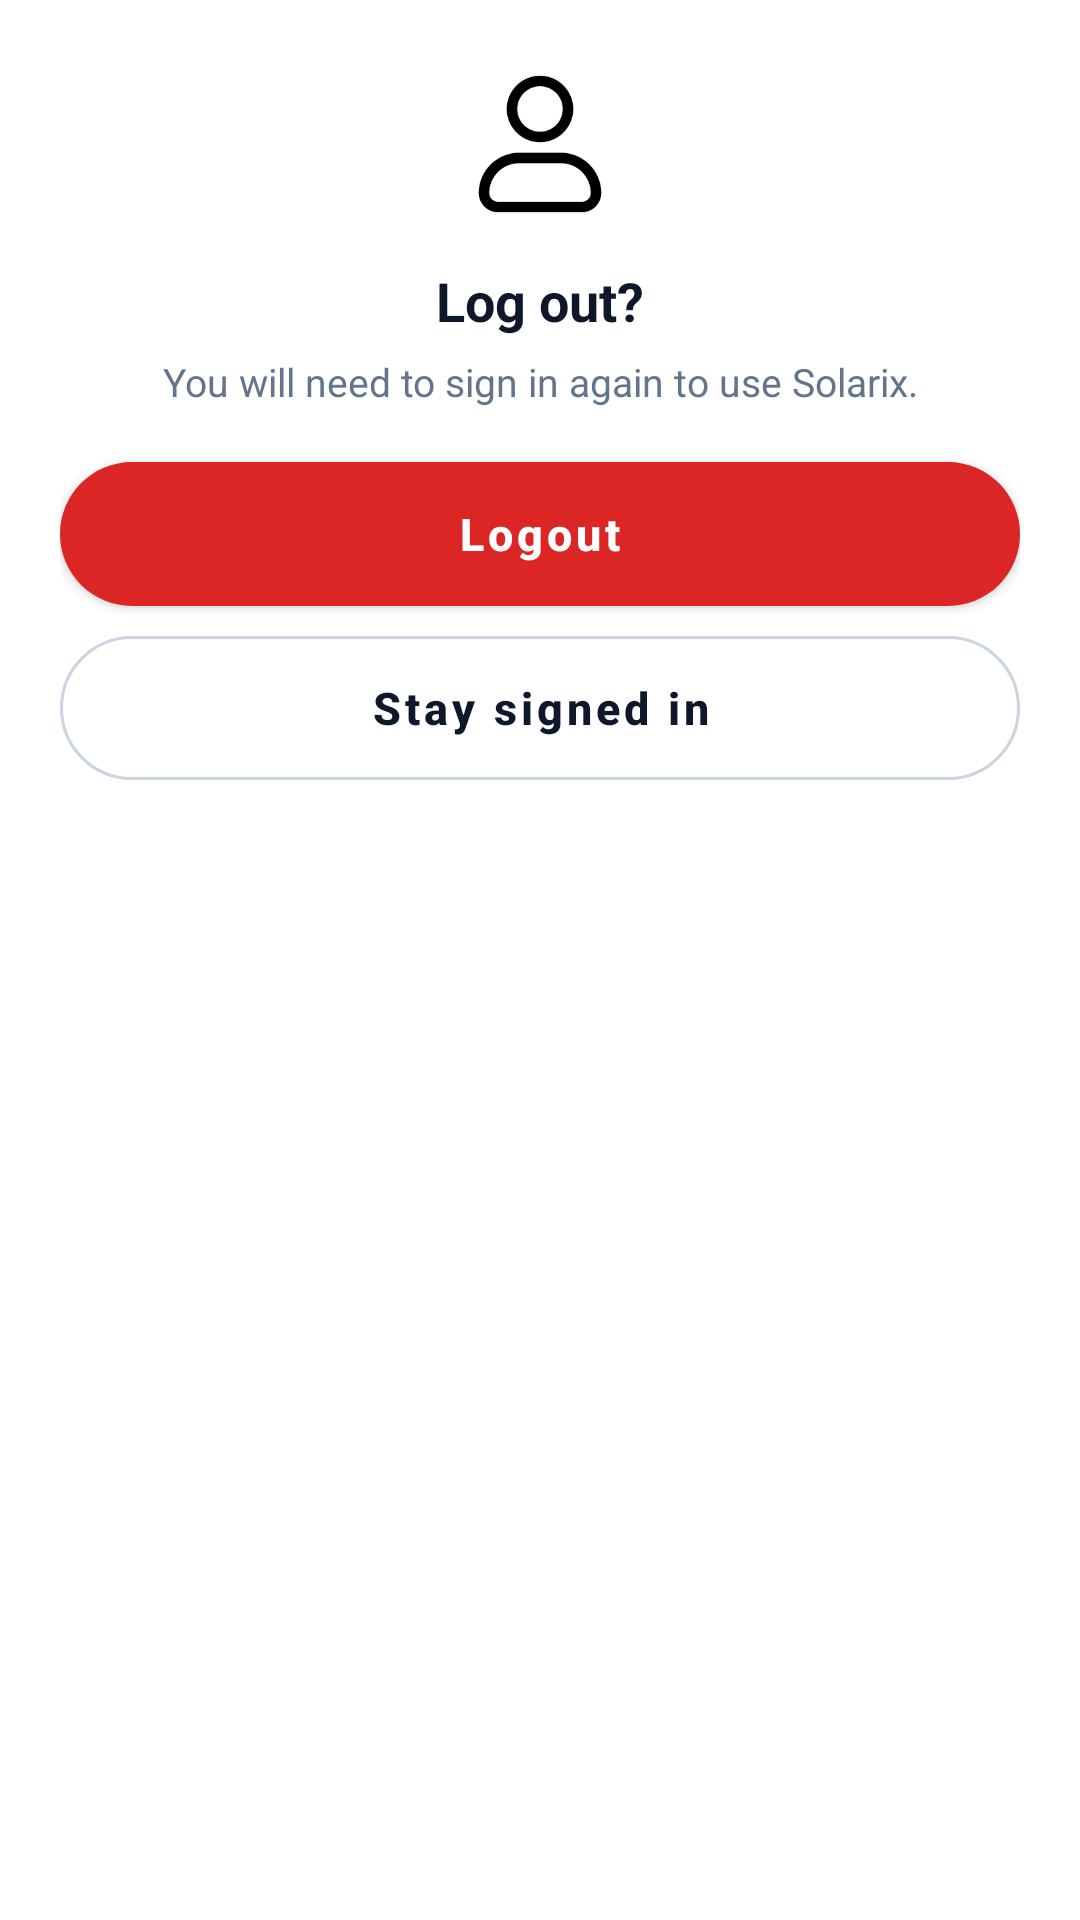

Where to tap for icons on this 1080*1920 app screen, as point (x, y):
Profile: point (540, 144)
